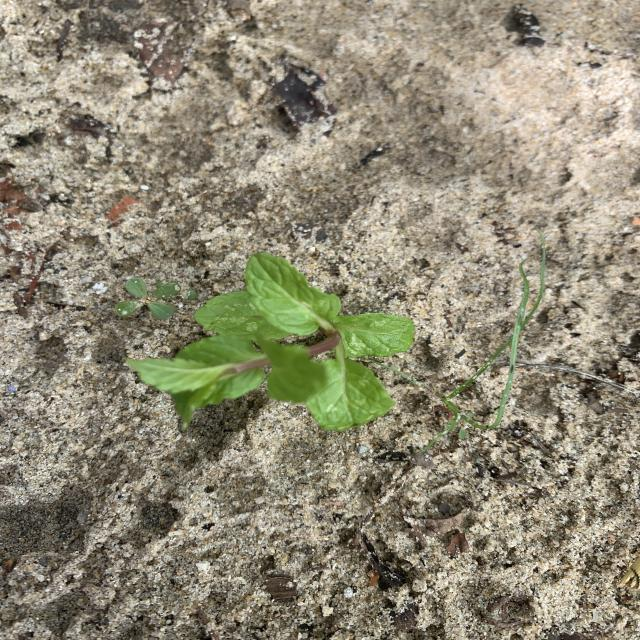crop: (136, 253, 414, 431)
weed: (485, 230, 546, 429), (426, 336, 512, 448), (115, 278, 180, 319)
